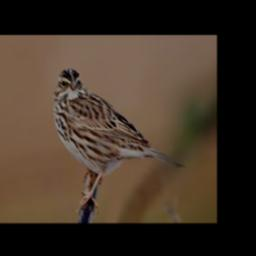Sparrow: (54, 68, 185, 215)
